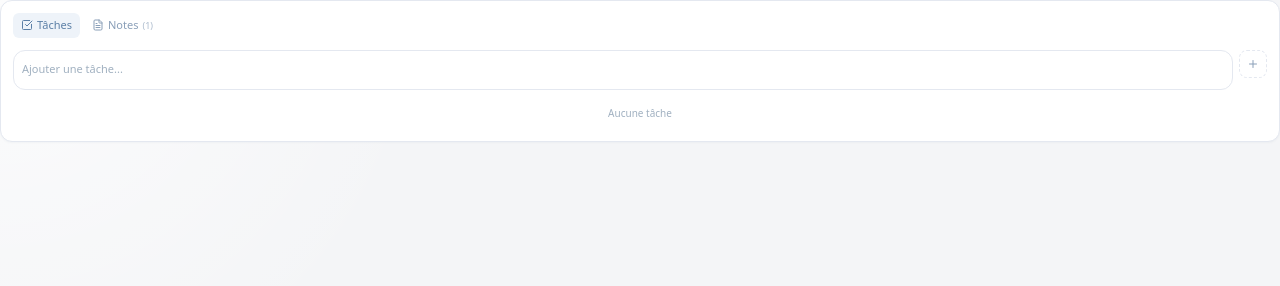
Test: TasksNotes — Notes tab › updates existing note when saving during edit mode
The width and height of the screenshot is (1280, 286).
Click the button "Notes (1)" at (122, 25), box 84,13 -> 161,38
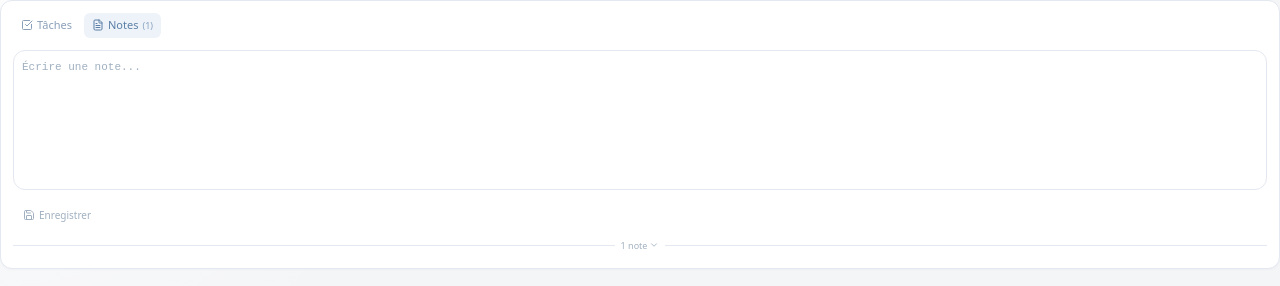
Click the button with aria-label "notes sauvegardées" at (640, 245), box 13,234 -> 1267,256
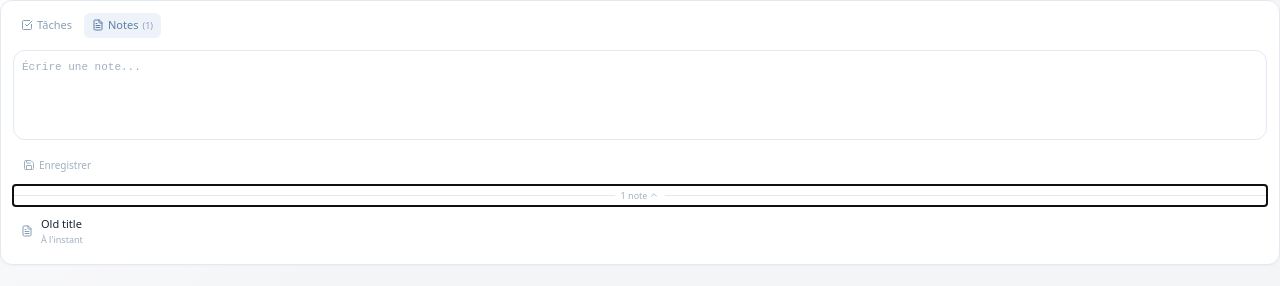
Click the text "Old title" at (61, 224), box 41,216 -> 82,231
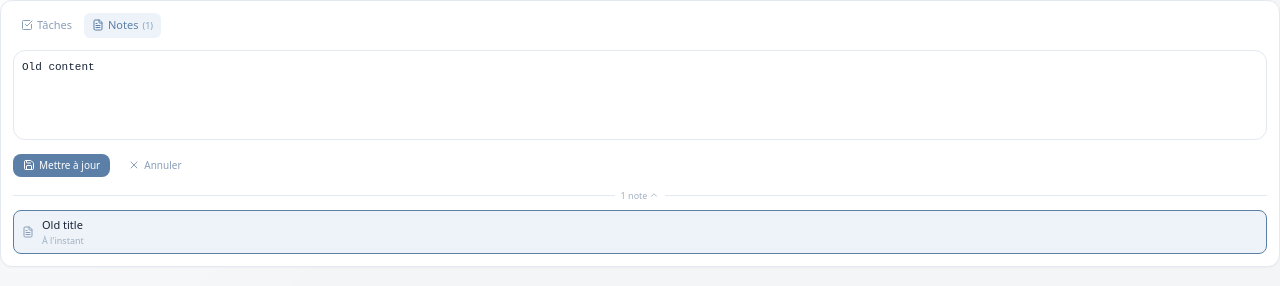
Replace the text in the text box with placeholder "Modifier la note..." with "Updated content" at (640, 94), box 13,50 -> 1267,140
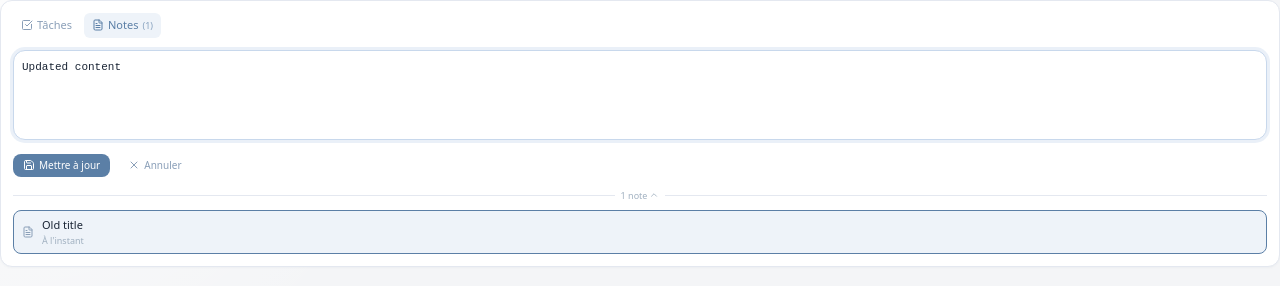
Click the button "Mettre à jour" at (62, 165), box 13,154 -> 110,176
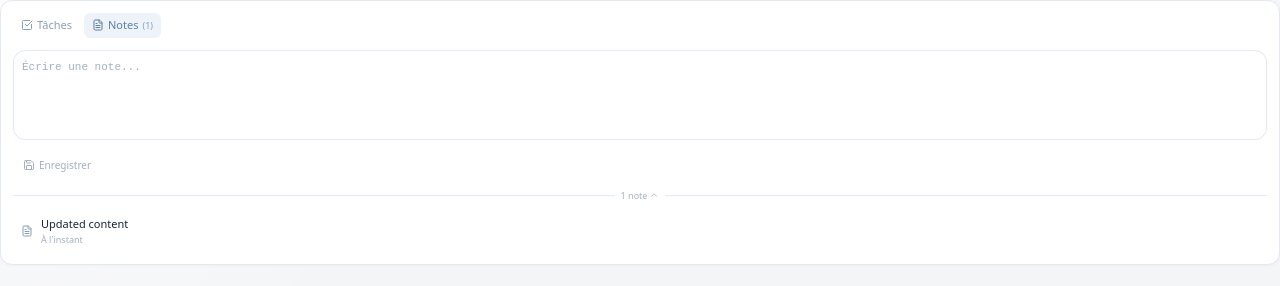
Expected: the text "Old title" reads "Updated content", 41,216 -> 128,231
